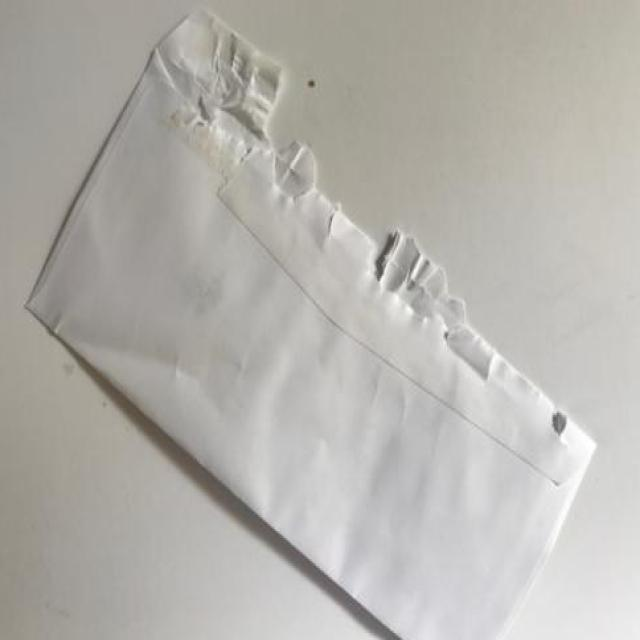kertas: (23, 4, 601, 640)
